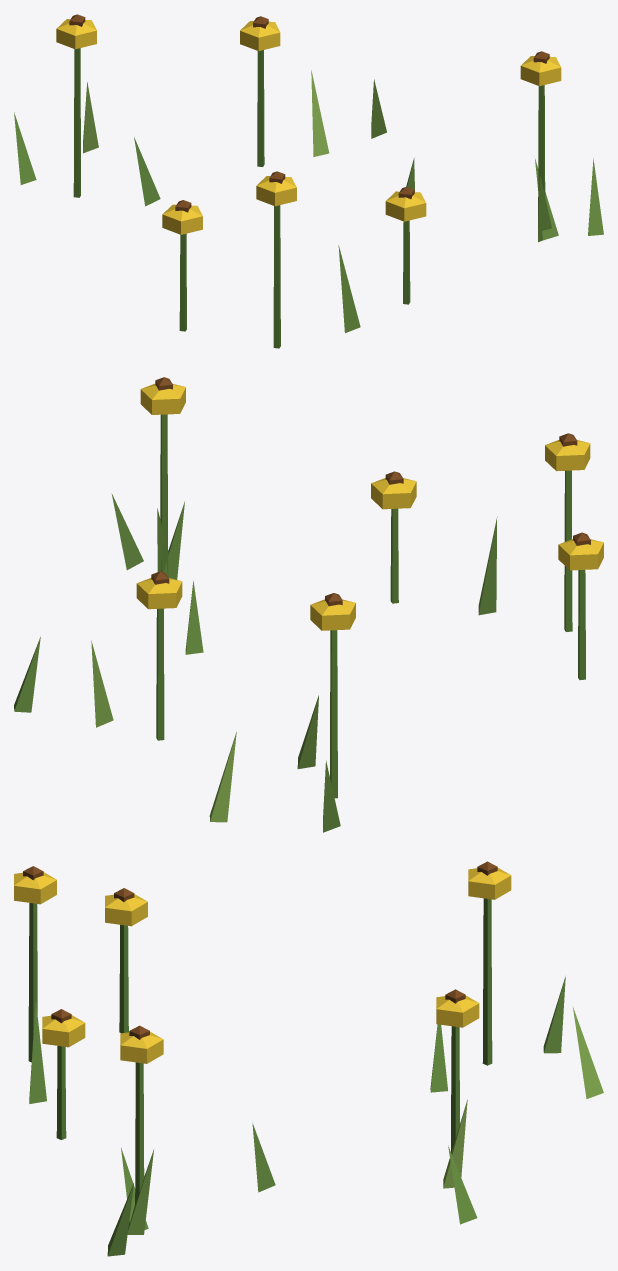
File: cover_flowers_yellow.glb
3 views of the same model, one above another, from view 1: azimuth 30°, elevation 25°; view 2: azimuth 150°, elevation 25°; view 3: azimuth 270°, elevation 25° (orthographic). The views are drawn at different scales.
Visible parts, largest first — view 1: scatter_flowers_yellow; view 2: scatter_flowers_yellow; view 3: scatter_flowers_yellow.
Part boxes in pixels (x1,y1,x2,y2): scatter_flowers_yellow: (14,14,603,348); scatter_flowers_yellow: (14,377,603,832); scatter_flowers_yellow: (14,861,603,1256).
Size of the model in its own units: 1.41 by 0.5829 by 1.5.
